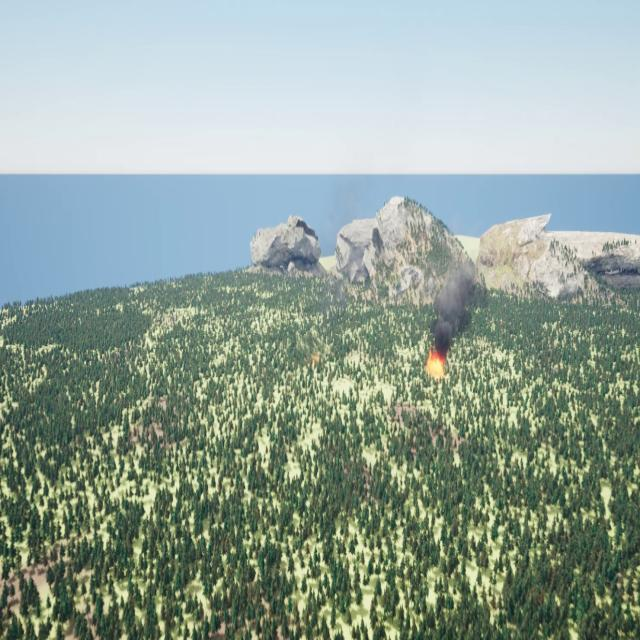fire: (424, 347, 447, 378)
smoke: (431, 261, 477, 347)
